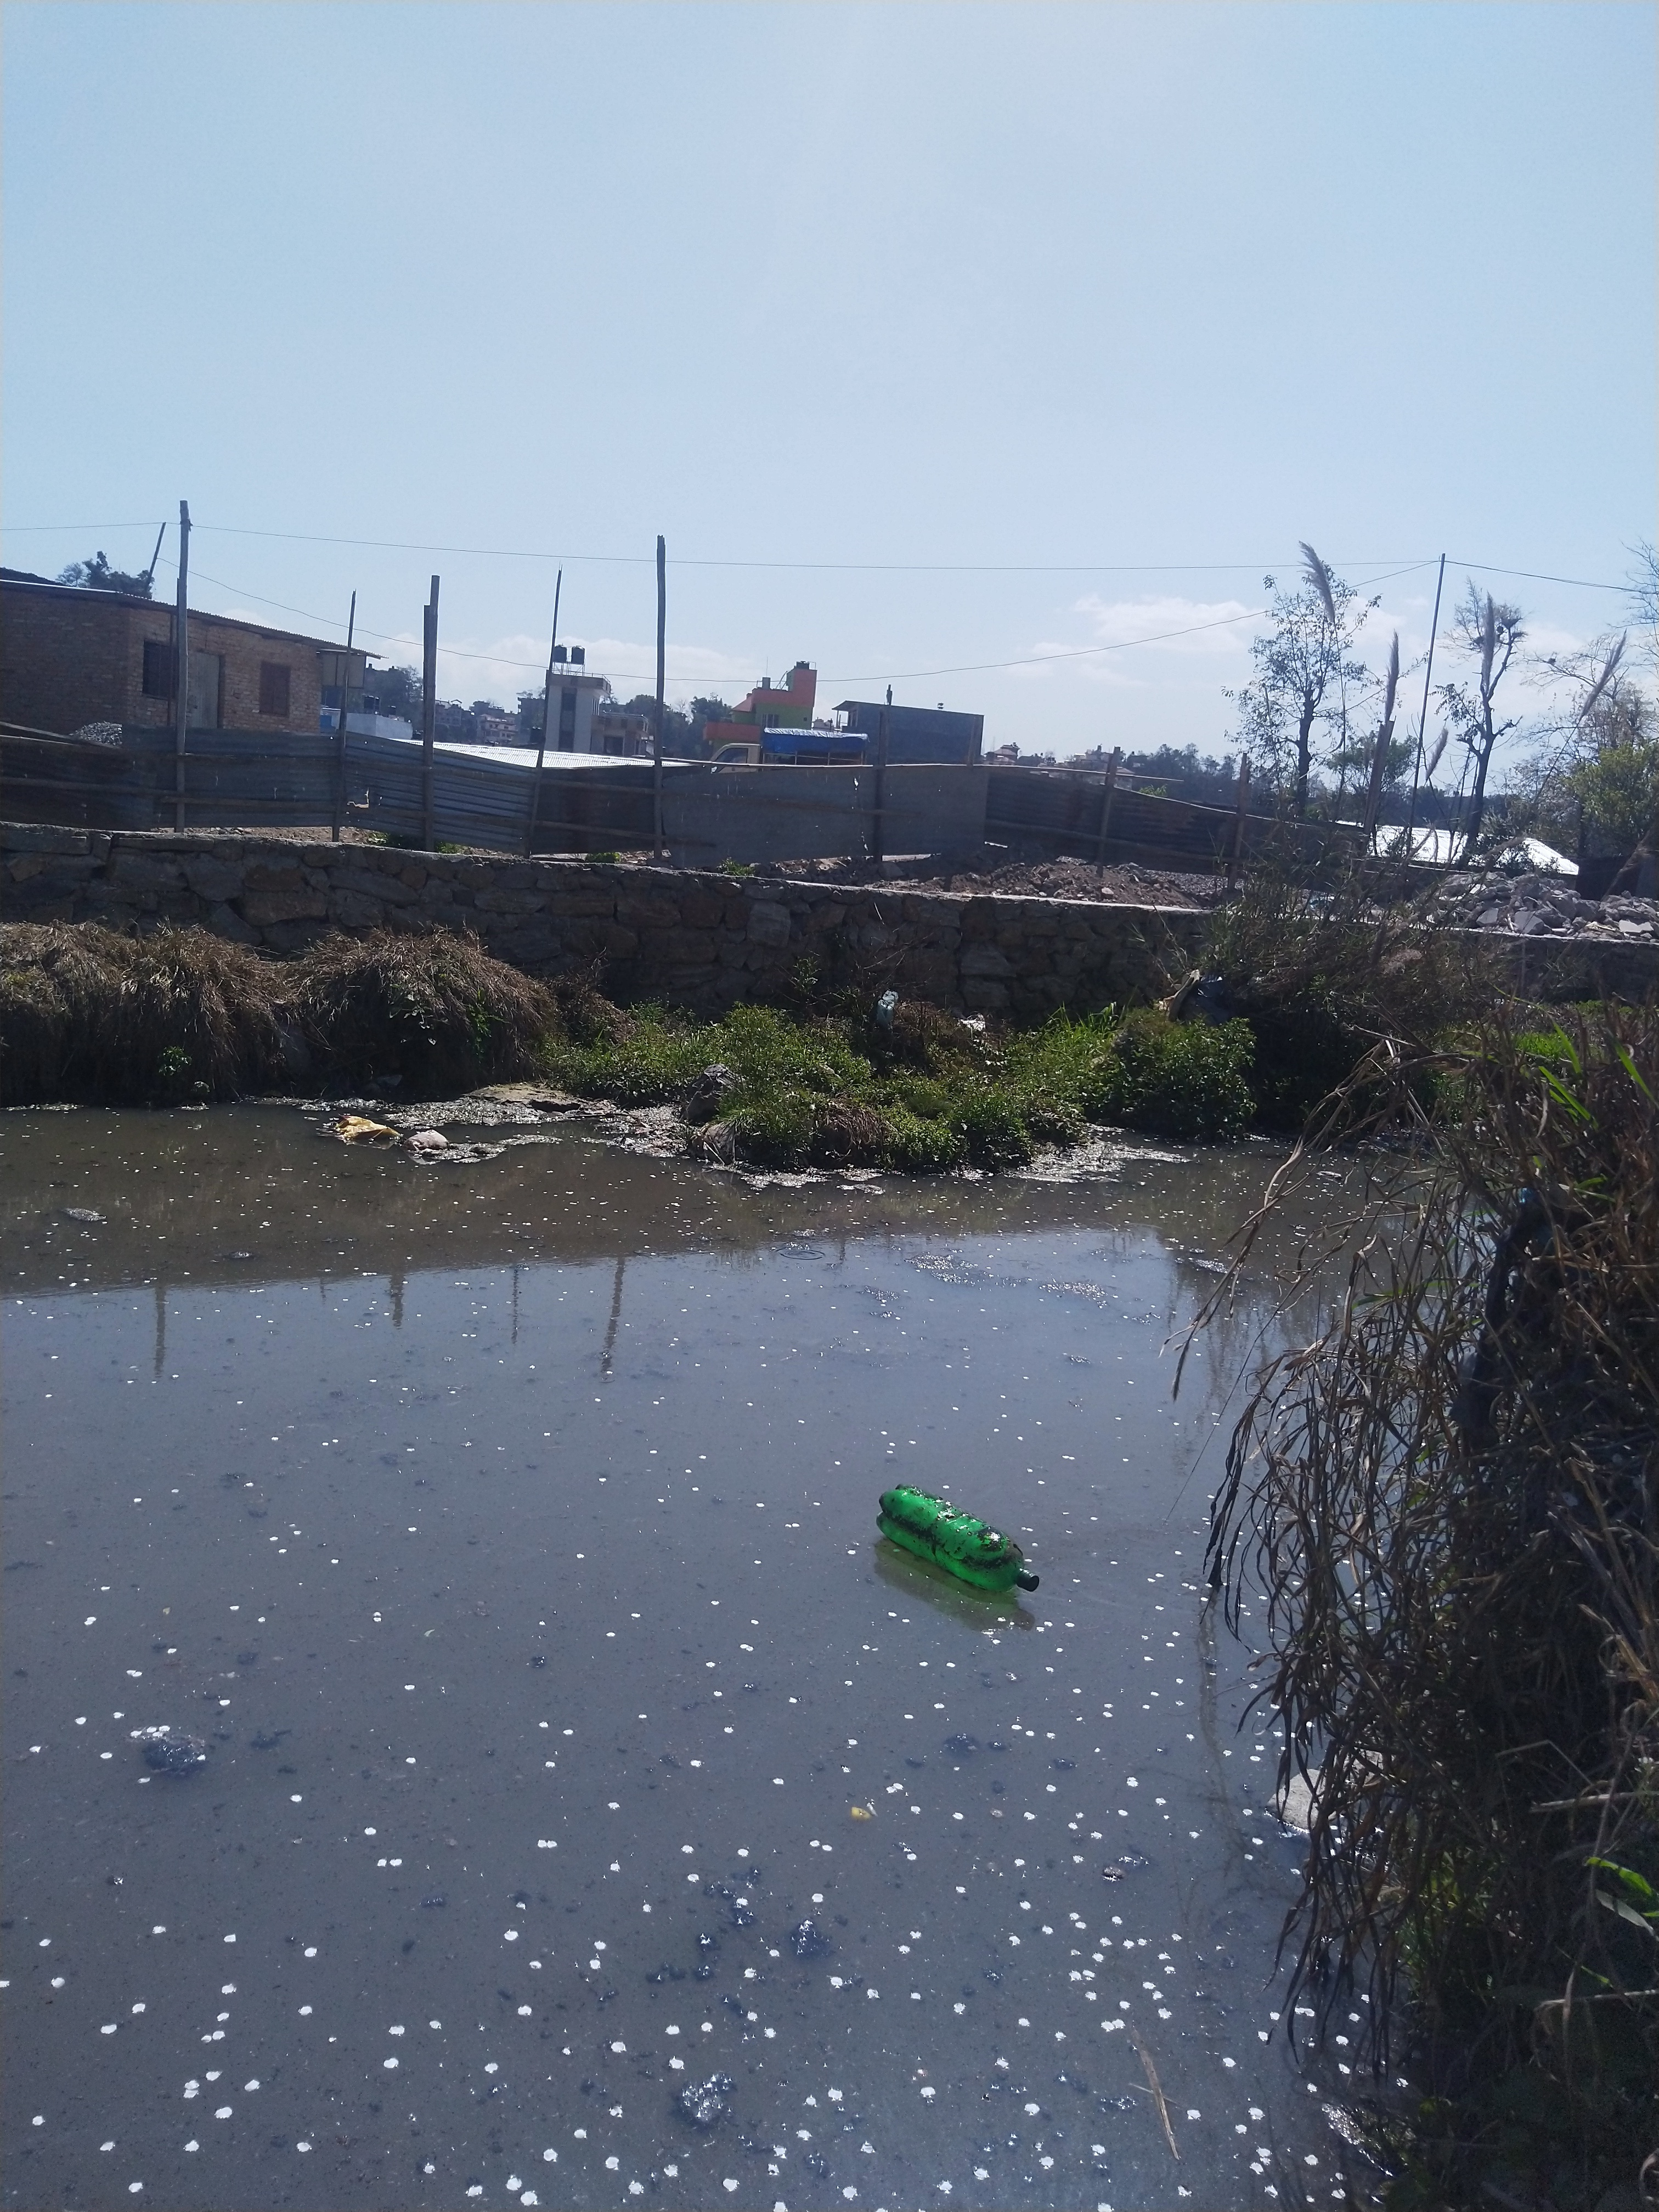Plastic Bottle: (877, 1482, 1039, 1592)
